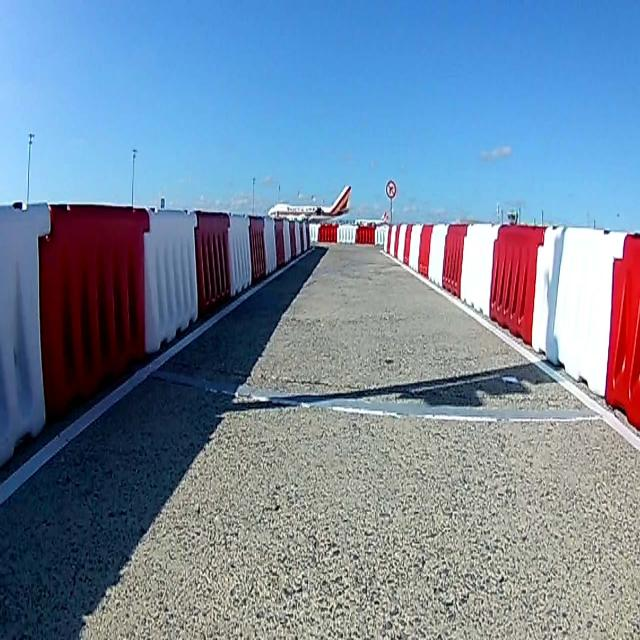sagadonulmez: (386, 182, 396, 198)
